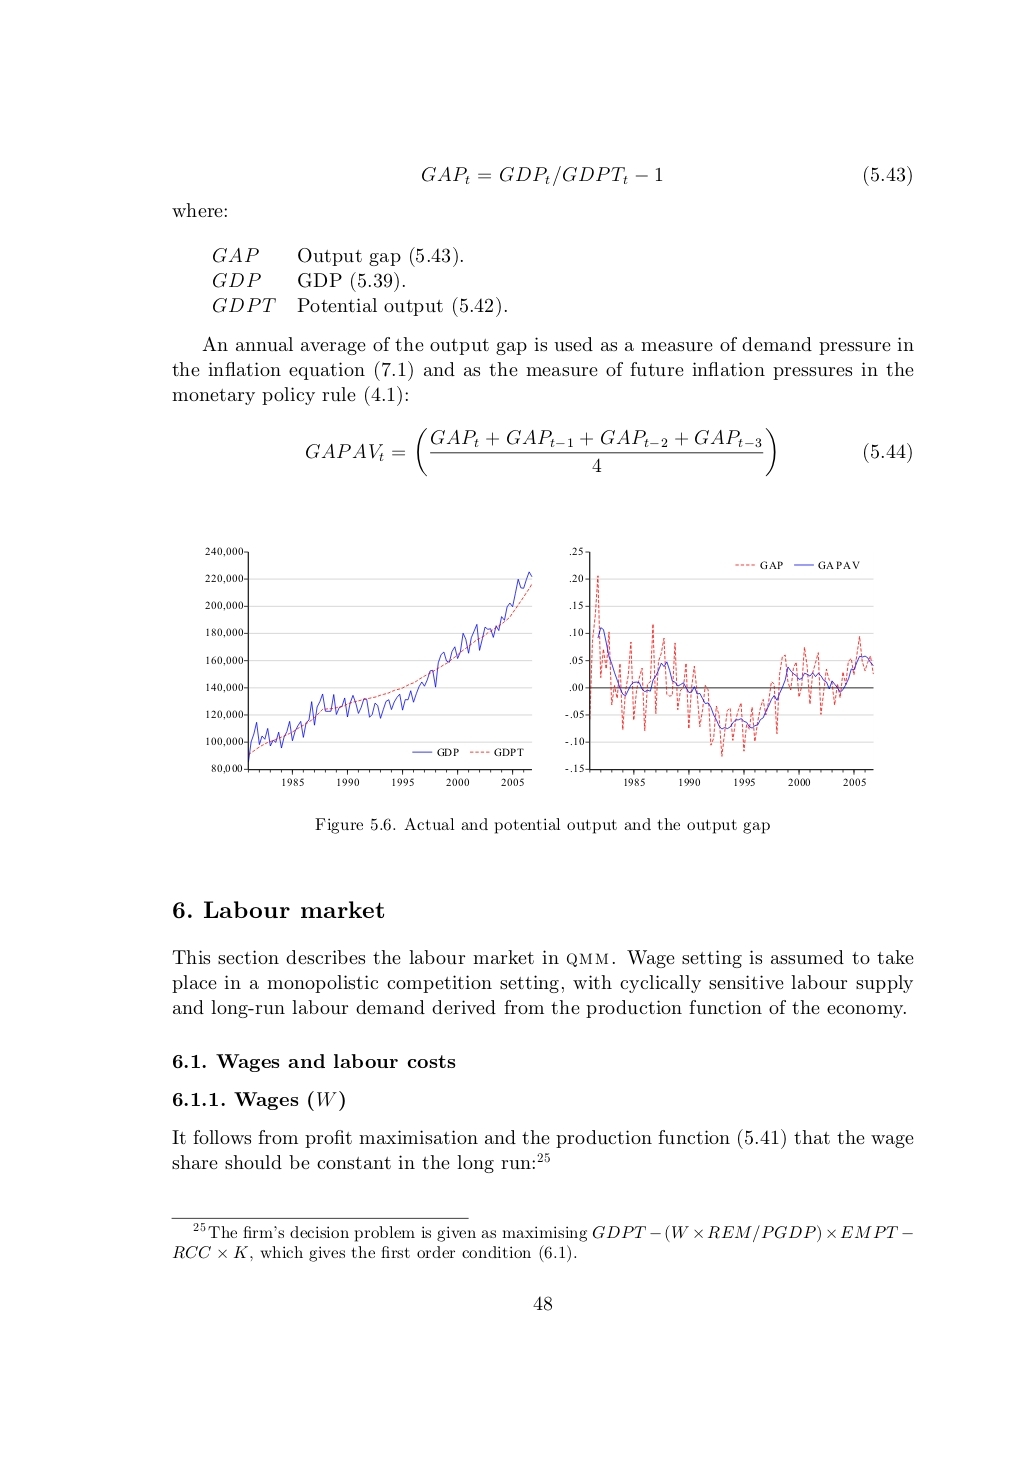figure: (206, 546, 532, 787), (565, 546, 873, 787)
formula: (306, 428, 911, 477), (422, 165, 911, 186)
